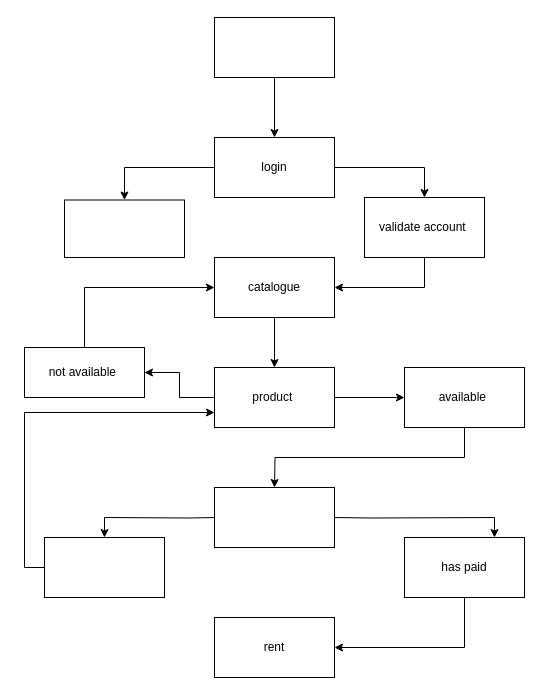
This 542x695 diagram has some shape labels left out. Each missing label, with the centre of its shape:
"booking" belongs at (274,517).
"insufficient credits" belongs at (104,567).
"invalid account" belongs at (124,228).
"open system" belongs at (274,47).
